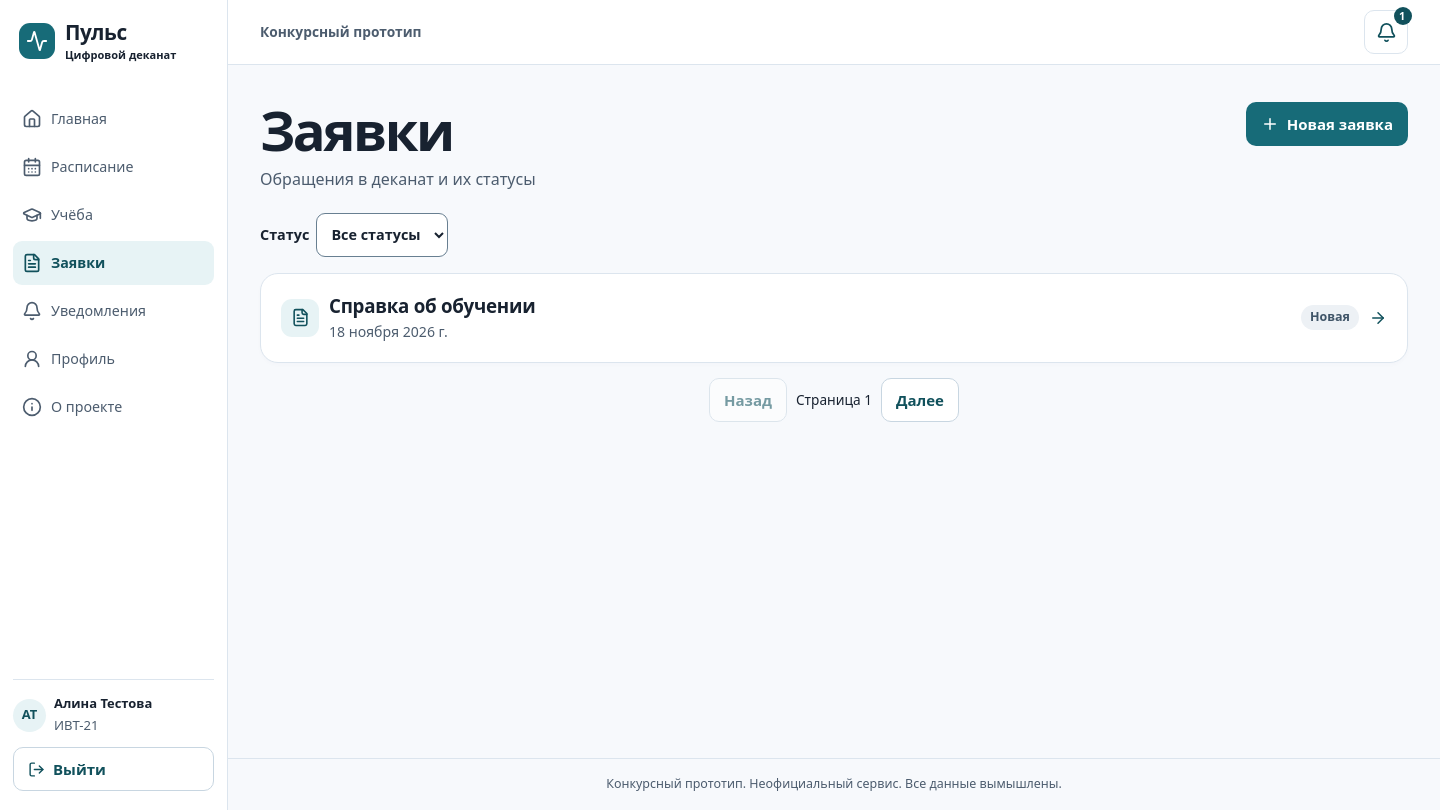
Test: Заявки и уведомления › фильтрует и перелистывает заявки
The image size is (1440, 810).
Expected: the heading "Справка об обучении" is shown, [329,293,535,318]
Click the button "Далее". click: (920, 400)
box: [881,378,959,422]
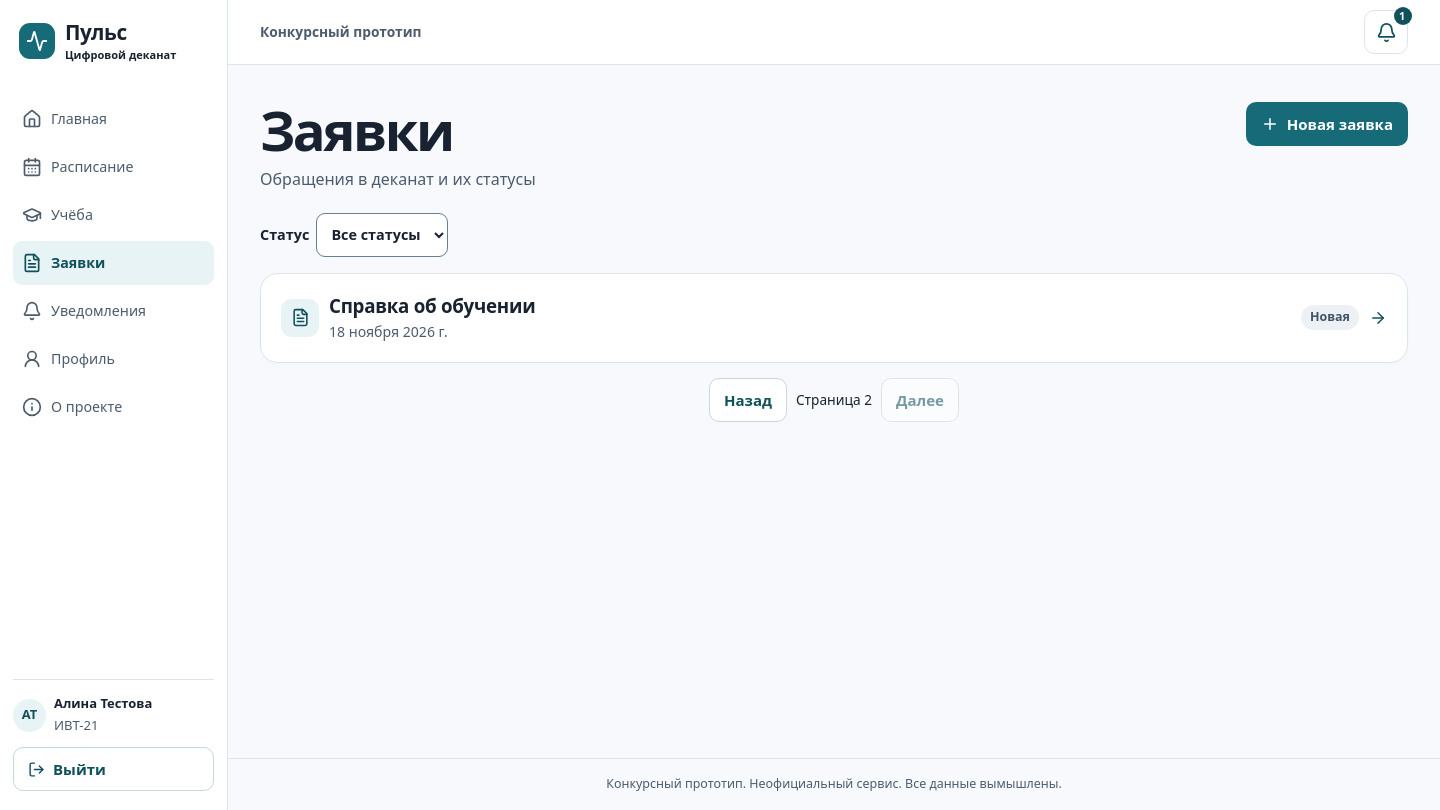
Now the text "Страница 2" is shown, box [796,390,872,410]
Click the button "Назад". click: (748, 400)
box: [709,378,787,422]
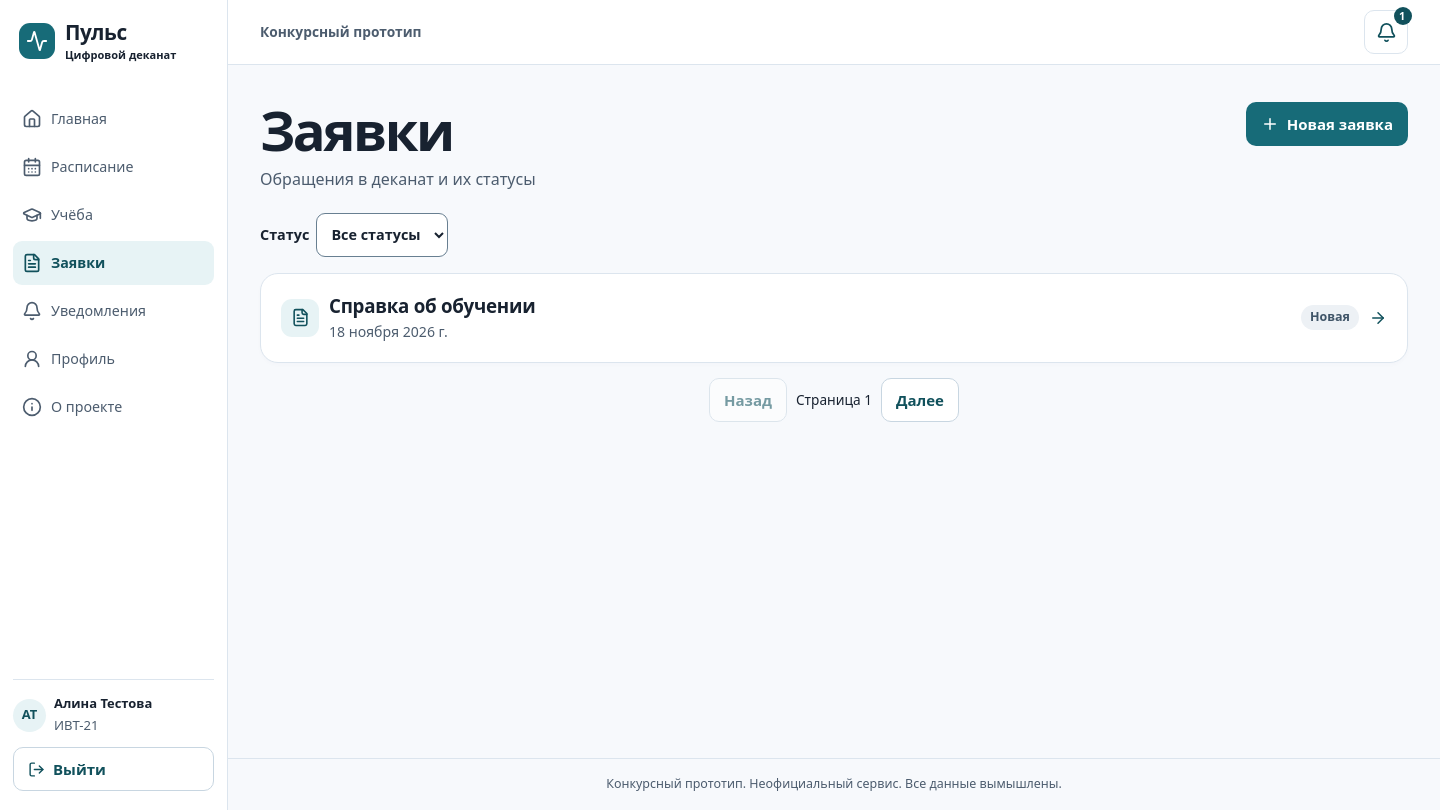
Now the text "Страница 1" is shown, box [796,390,872,410]
Select "Готова" in the dropdown labelled "Статус". click: (382, 235)
box: [316,213,448,257]
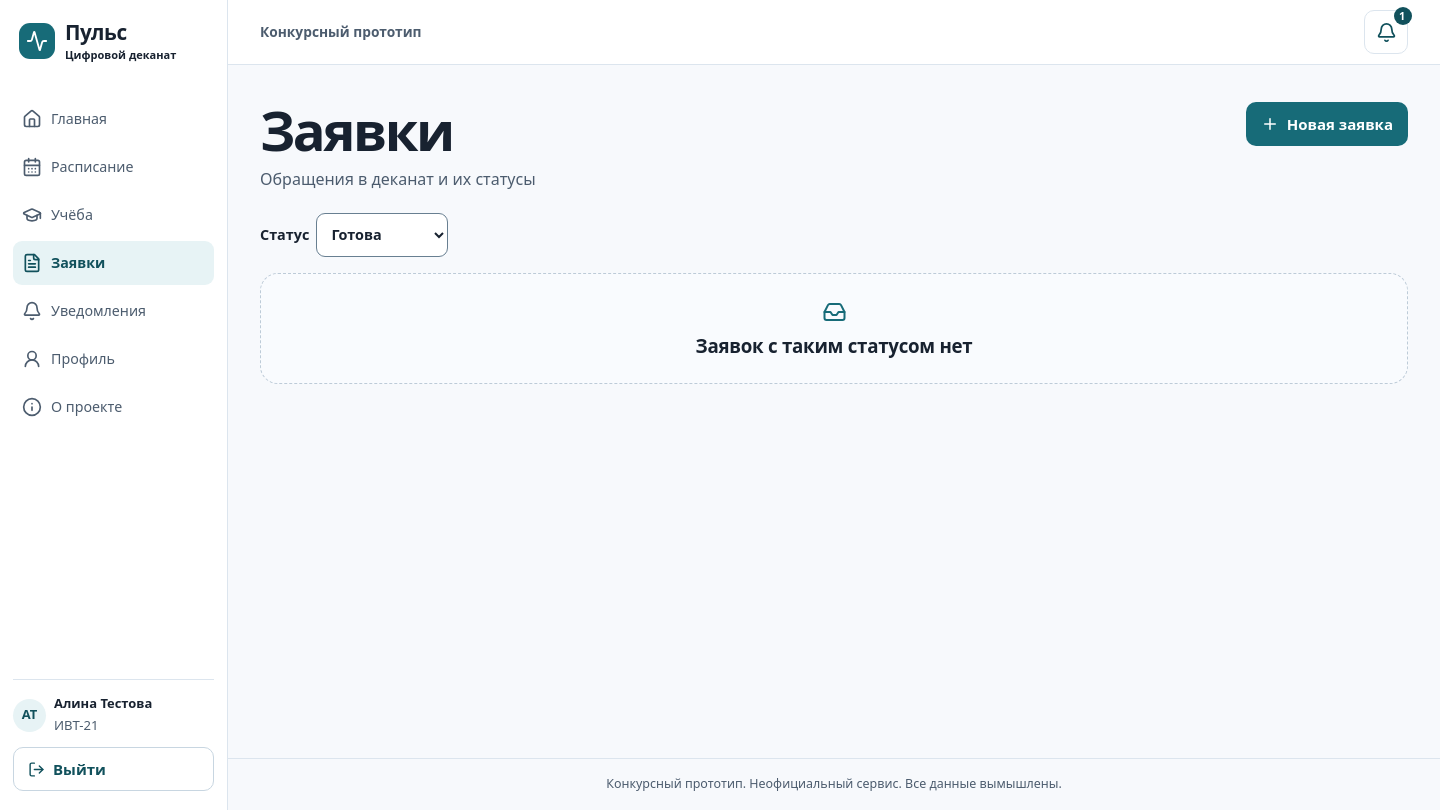
Now the heading "Заявок с таким статусом нет" is shown, box [696,334,972,357]
